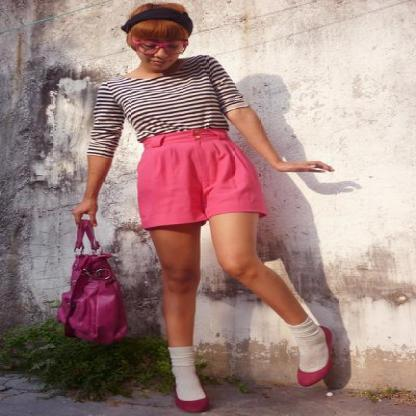bag: (58, 211, 128, 344)
shirt: (71, 55, 249, 157)
shoe: (176, 326, 349, 415)
shorts: (136, 126, 274, 226)
